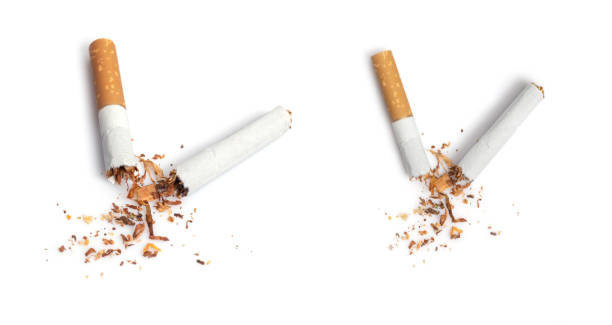cigarette: (168, 104, 294, 198), (451, 80, 548, 186), (369, 48, 434, 184), (89, 36, 143, 186)
